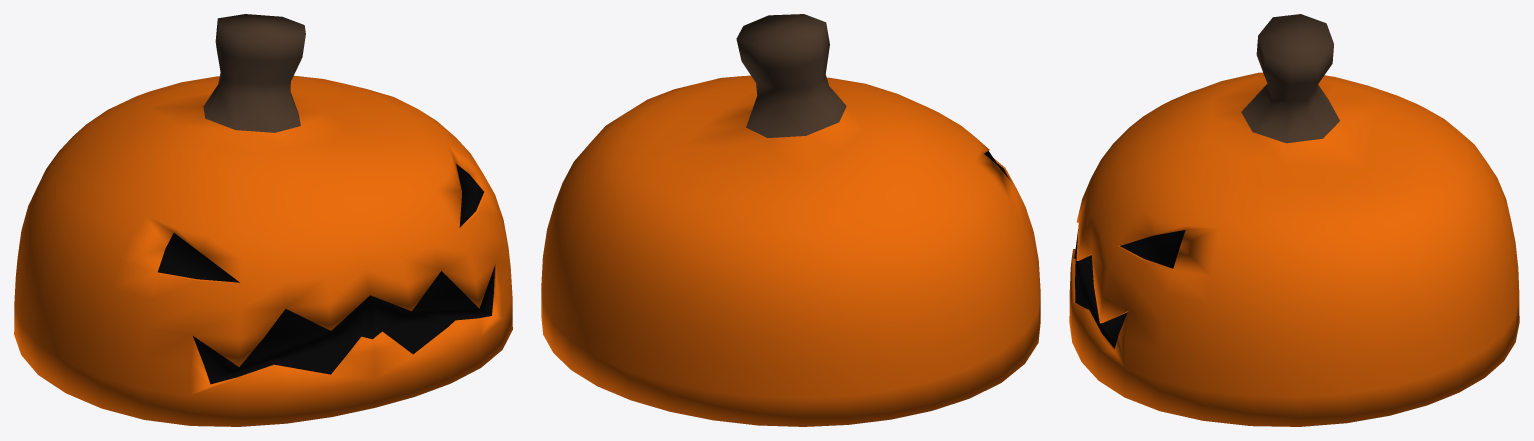
The model's file is Pumpkin_Hat.glb.
3 views of the same model, side by side, from view 1: azimuth 30°, elevation 25°; view 2: azimuth 150°, elevation 25°; view 3: azimuth 270°, elevation 25° (orthographic). The views are drawn at different scales.
Visible parts, largest first — view 1: Cube; view 2: Cube; view 3: Cube.
Part boxes in pixels (x1=…): Cube: x1=14, y1=14, x2=512, y2=426; Cube: x1=541, y1=14, x2=1040, y2=426; Cube: x1=1069, y1=14, x2=1519, y2=426.
Size of the model in its own units: 1.98 by 1.32 by 1.83.
